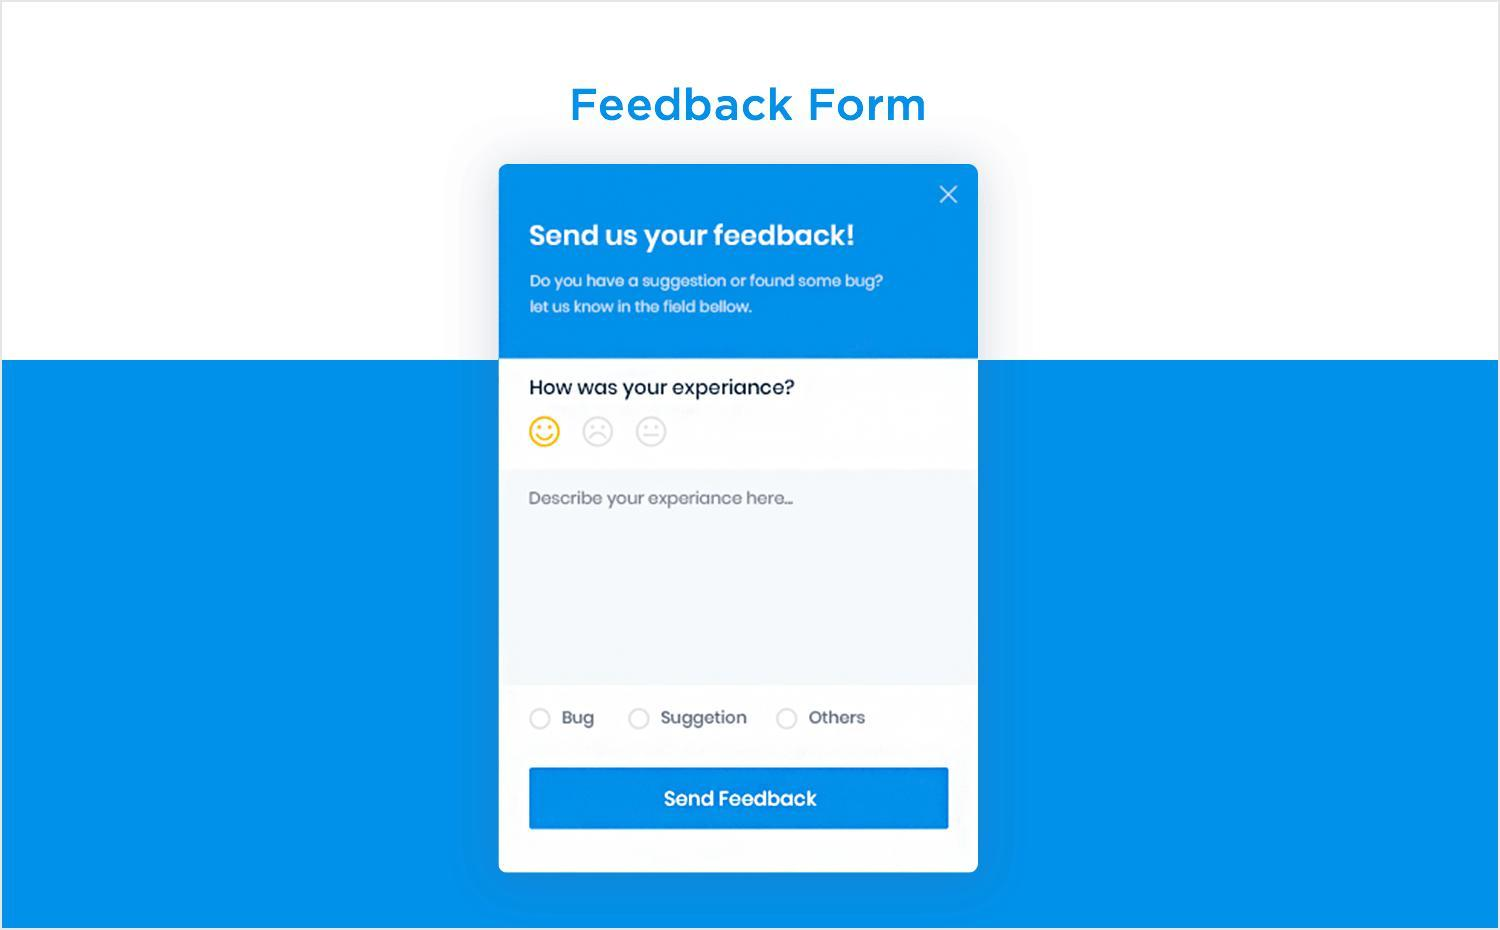button: (528, 768, 950, 830)
label: (527, 217, 861, 258), (525, 487, 806, 514), (528, 376, 799, 399), (661, 709, 749, 729), (811, 710, 866, 727), (564, 710, 598, 727)
radio: (529, 707, 554, 729), (776, 708, 800, 729), (630, 709, 650, 729)
